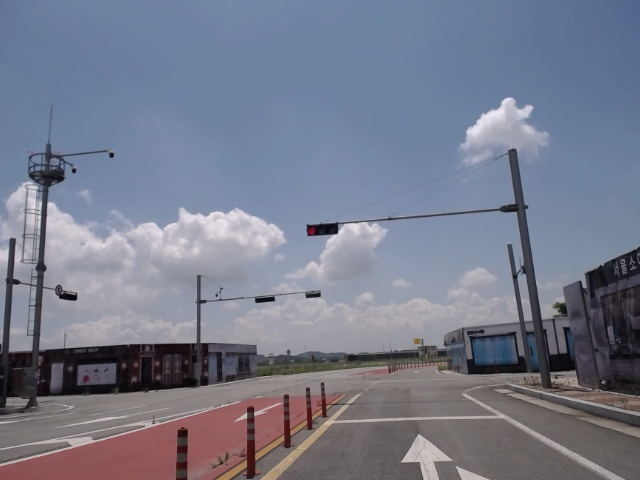red_3: (306, 222, 339, 236)
